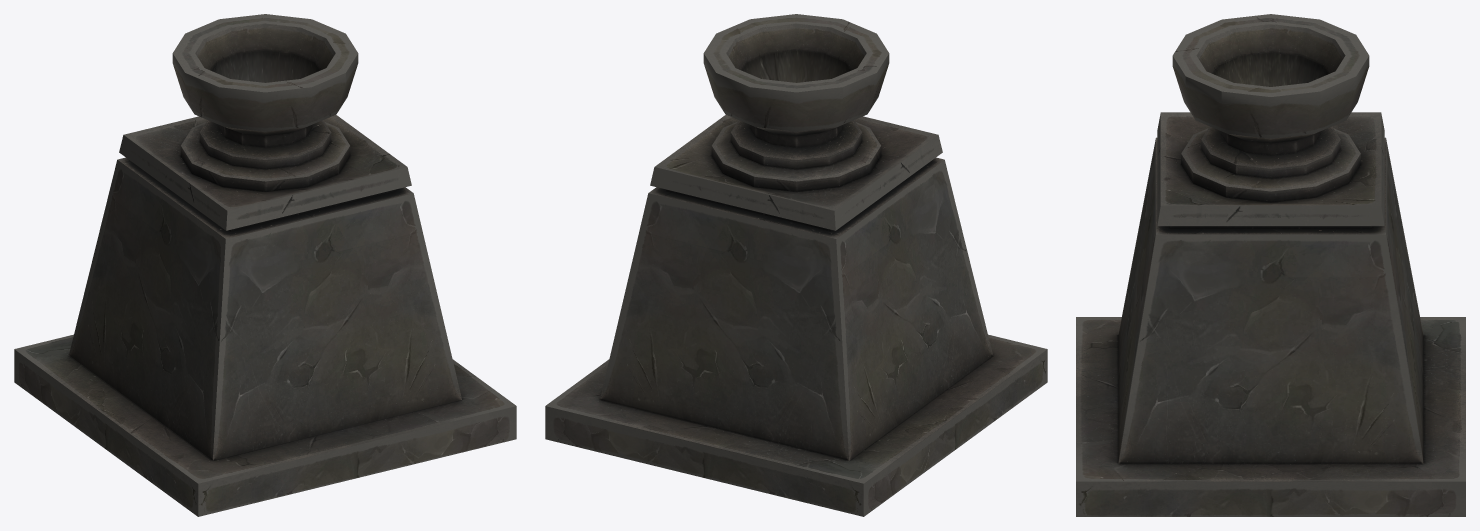
Rendered from AncientStone.fbx.
3 renders of one model, left to right at view 1: azimuth 30°, elevation 25°; view 2: azimuth 150°, elevation 25°; view 3: azimuth 270°, elevation 25°, orthographic. The views are drawn at different scales.
Visible parts, largest first — view 1: Object_2; view 2: Object_2; view 3: Object_2.
Part boxes in pixels (bbox=[...]): Object_2: bbox=[14, 14, 516, 516]; Object_2: bbox=[545, 14, 1047, 516]; Object_2: bbox=[1076, 14, 1465, 516].
Bounding box in the file's own units: 120 × 129 × 120.
Materials: 1 (1 with a texture image).
